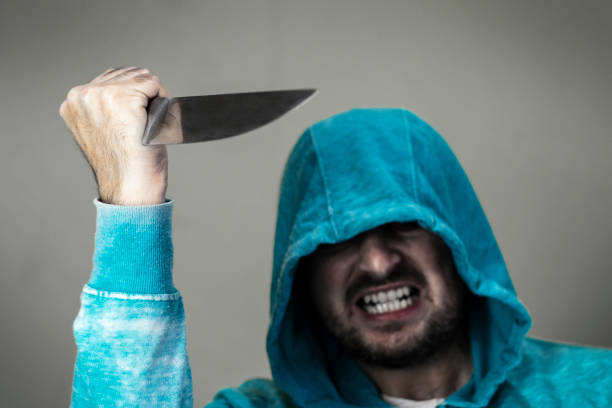knife: (138, 86, 321, 148)
